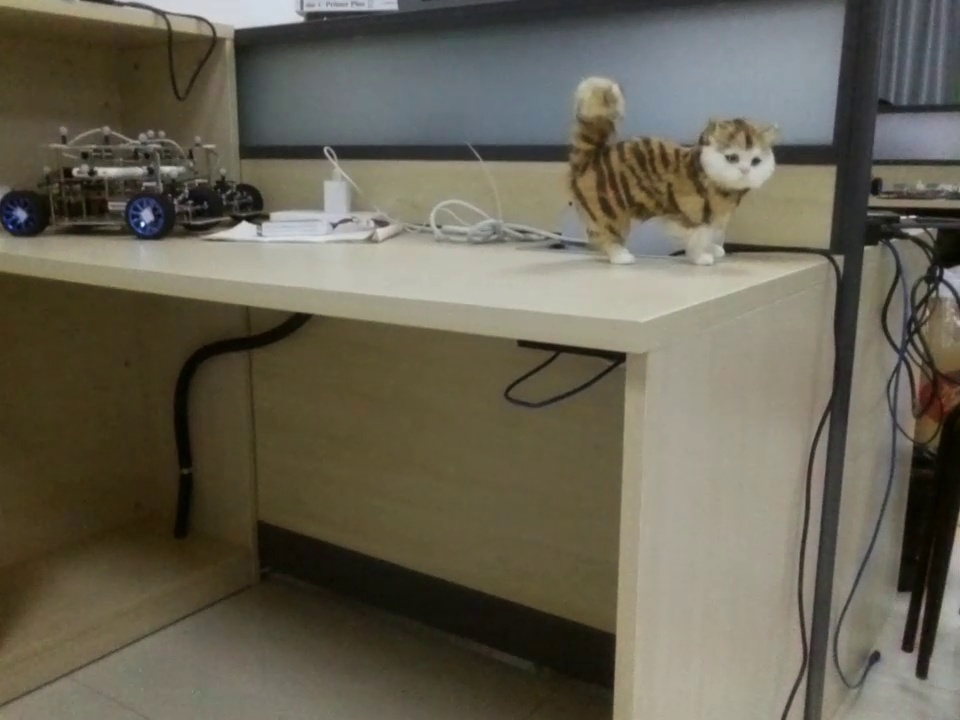cat: (559, 69, 789, 274)
